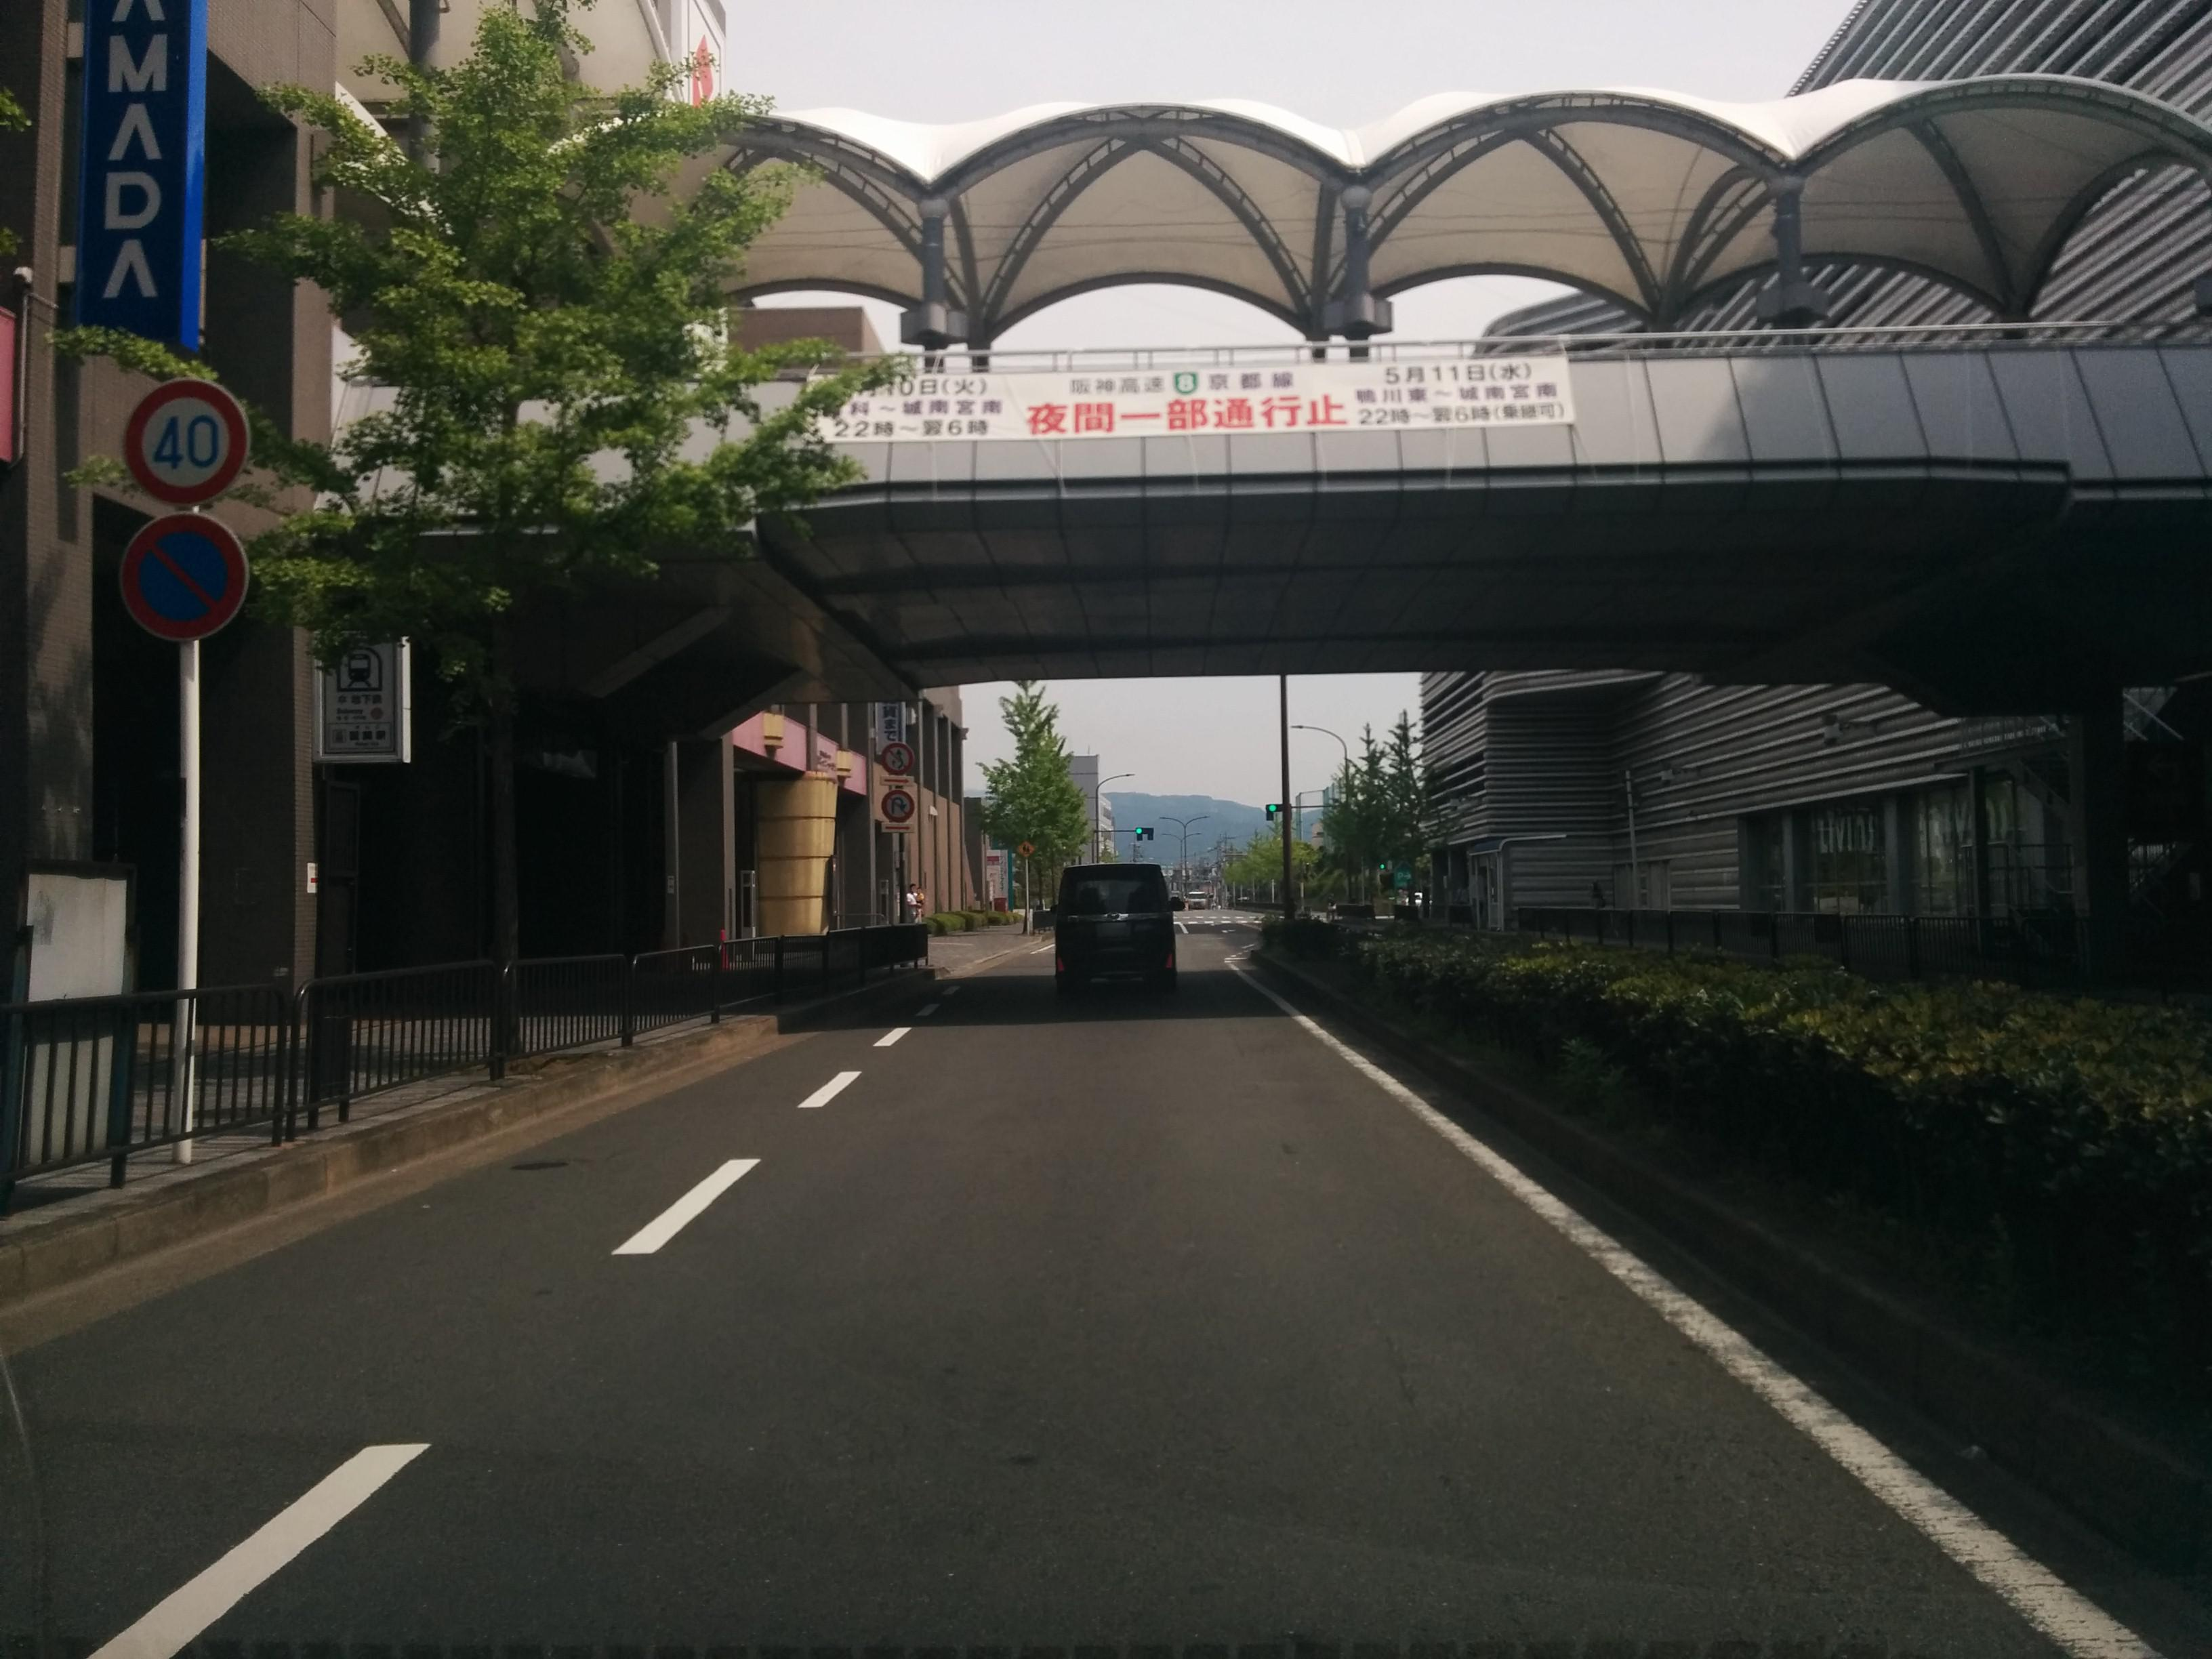vinyl banner: (786, 329, 1604, 448)
